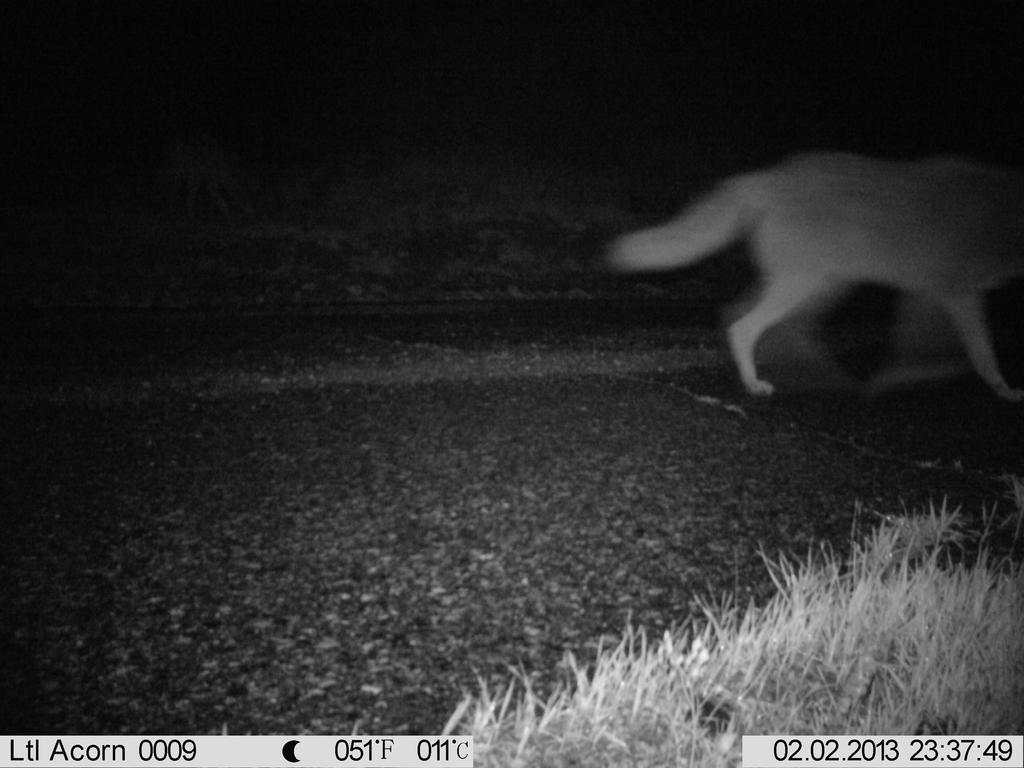coyote: (593, 133, 1021, 411)
